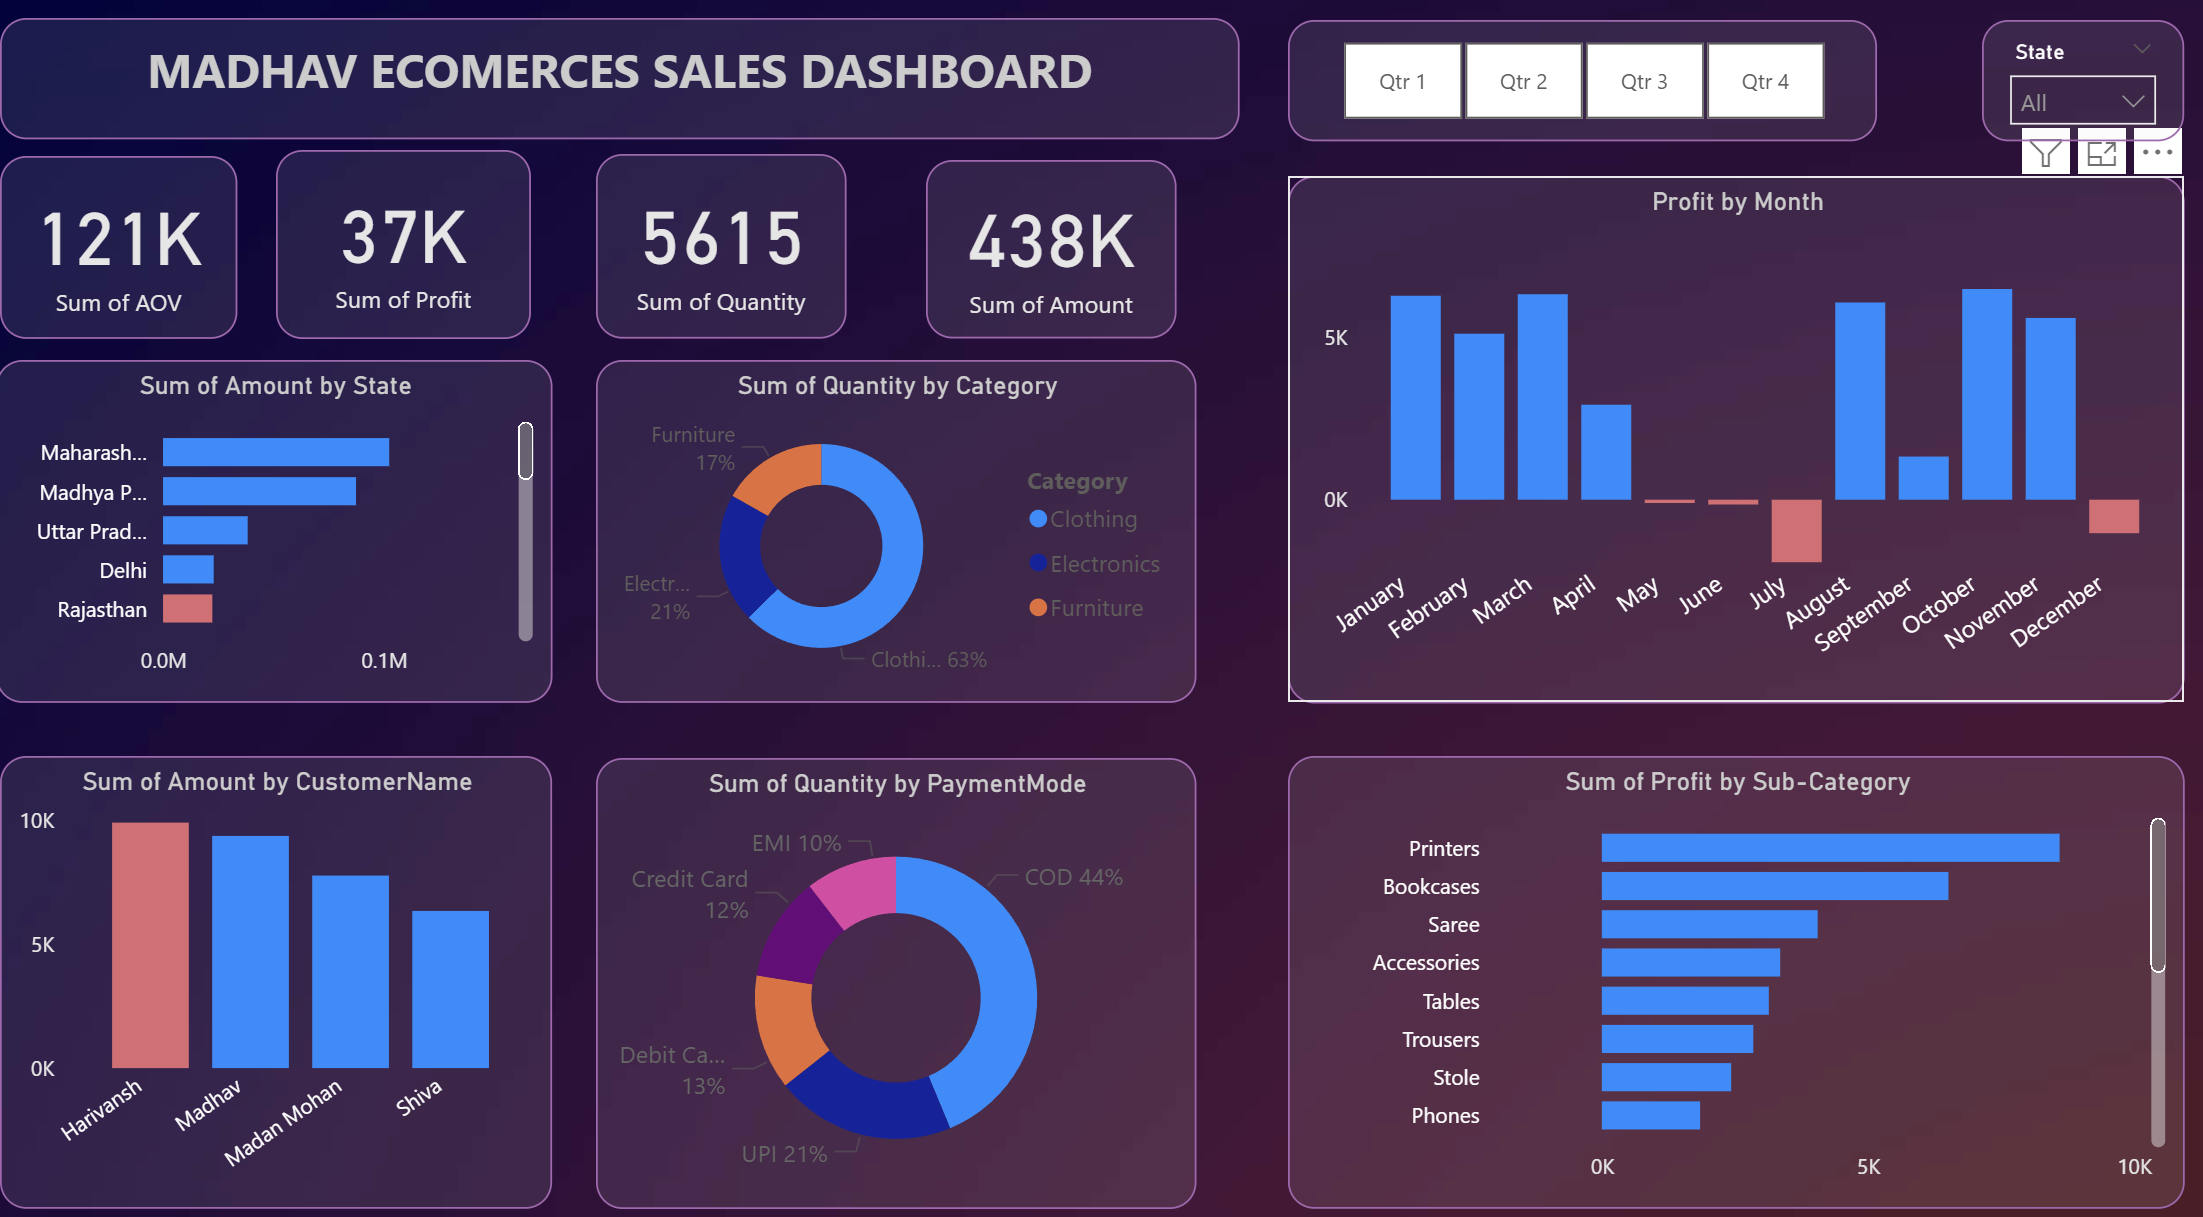

The dashboard page shown, as its layout file describes it:
{"tool":"powerbi","page":{"name":"Page 1","canvas":[1280,720],"ordinal":0},"visuals":[{"type":"textbox","box":[11.2,20,705,68.8],"z":0},{"type":"columnChart","title":"Profit by Month","fields":{"Y":["Details.Profit"],"Category":["Orders.Order Date.Variation.Date Hierarchy.Month"]},"box":[743.8,110,510,300],"z":1000},{"type":"barChart","fields":{"Category":["Details.Sub-Category"],"Y":["Details.Profit"]},"box":[743.8,440,510,257.5],"z":2000},{"type":"donutChart","fields":{"Category":["Details.Category"],"Y":["Details.Quantity"]},"box":[350,215,341.2,195],"z":3000},{"type":"donutChart","fields":{"Category":["Details.PaymentMode"],"Y":["Details.Quantity"]},"box":[350,441.2,341.2,256.2],"z":4000},{"type":"card","fields":{"Values":["Details.Quantity"]},"box":[350,97.5,142.5,105],"z":5000},{"type":"card","fields":{"Values":["Details.AOV"]},"box":[11.2,98.8,135,103.8],"z":6000},{"type":"card","fields":{"Values":["Details.Amount"]},"box":[537.5,101.2,142.5,101.2],"z":7000},{"type":"card","fields":{"Values":["Details.Profit"]},"box":[168.8,95,145,107.5],"z":8000},{"type":"clusteredBarChart","fields":{"Y":["Details.Amount"],"Category":["Orders.State"]},"box":[8.8,215,316.2,195],"z":10000},{"type":"columnChart","fields":{"Category":["Orders.CustomerName"],"Y":["Details.Amount"]},"box":[11.2,440,313.8,257.5],"z":11000},{"type":"slicer","fields":{"Values":["Orders.Order Date.Variation.Date Hierarchy.Quarter"]},"box":[743.8,21.2,335,68.8],"z":12000},{"type":"slicer","fields":{"Values":["Orders.State"]},"box":[1138.8,21.2,115,68.8],"z":13000}]}

Visuals, with their boxes in screenshot pixels (x1, y1, x2, y2), scaled from the page's 1280x720 canvas onto the 2203x1217 screenshot:
textbox: <bbox>19, 34, 1233, 150</bbox>
"Profit by Month" columnChart: <bbox>1280, 186, 2158, 693</bbox>
barChart - Details.Sub-Category x Details.Profit: <bbox>1280, 744, 2158, 1179</bbox>
donutChart - Details.Category x Details.Quantity: <bbox>602, 363, 1190, 693</bbox>
donutChart - Details.PaymentMode x Details.Quantity: <bbox>602, 746, 1190, 1179</bbox>
card - Details.Quantity: <bbox>602, 165, 848, 342</bbox>
card - Details.AOV: <bbox>19, 167, 252, 342</bbox>
card - Details.Amount: <bbox>925, 171, 1170, 342</bbox>
card - Details.Profit: <bbox>291, 161, 540, 342</bbox>
clusteredBarChart - Details.Amount x Orders.State: <bbox>15, 363, 559, 693</bbox>
columnChart - Orders.CustomerName x Details.Amount: <bbox>19, 744, 559, 1179</bbox>
slicer - Orders.Order Date.Variation.Date Hierarchy.Quarter: <bbox>1280, 36, 1857, 152</bbox>
slicer - Orders.State: <bbox>1960, 36, 2158, 152</bbox>
